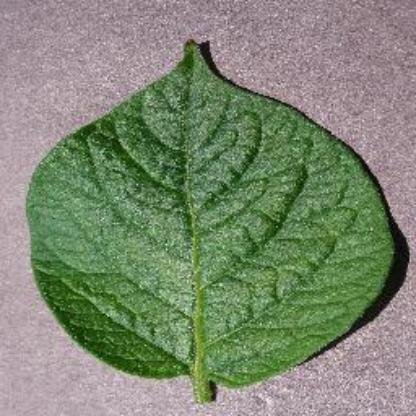Healthy-plant: (21, 37, 397, 407)
